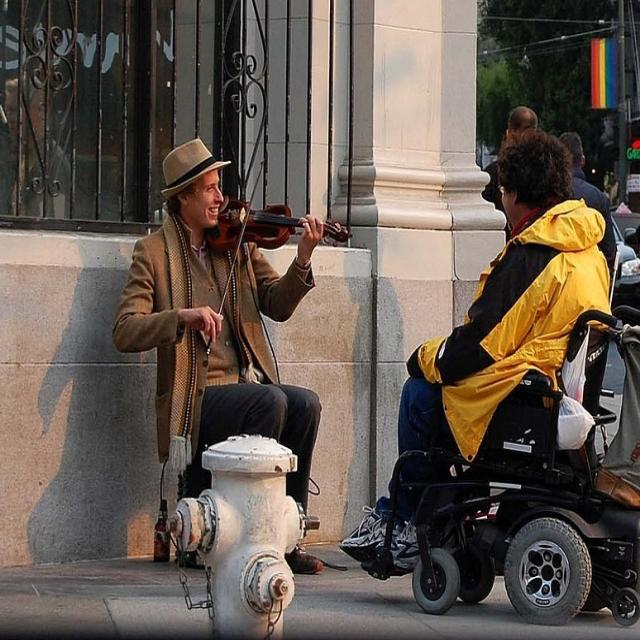violin: (200, 196, 354, 251)
